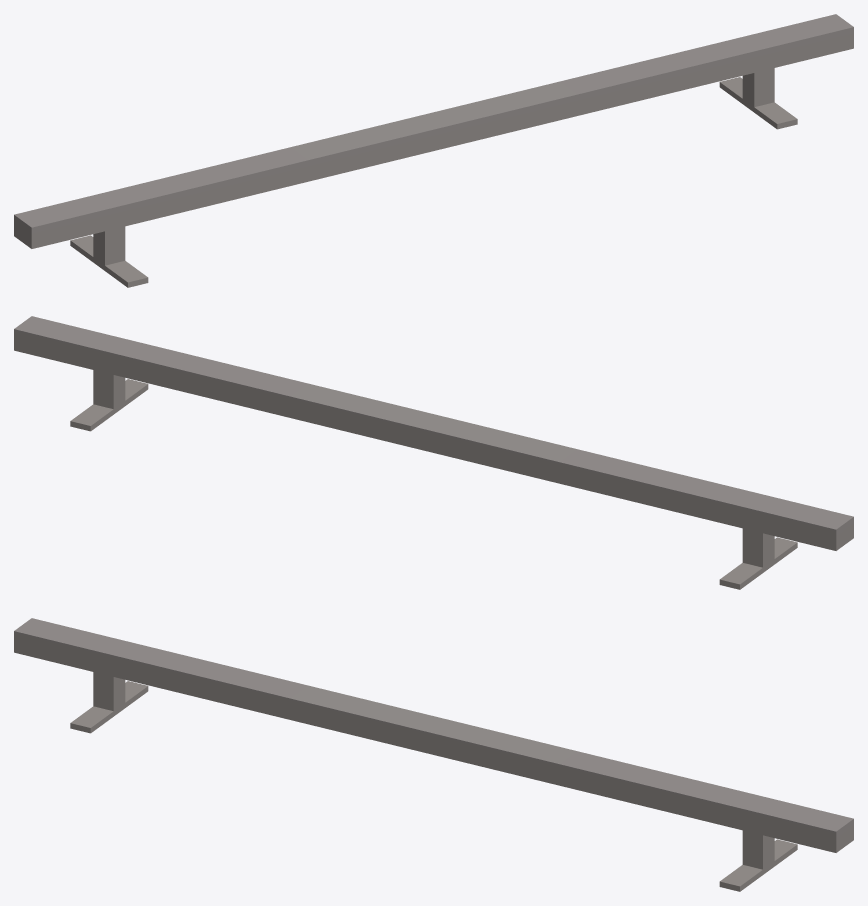
Rendered from SkateboardFlatrail.glb.
3 renders of one model, top to bottom at view 1: azimuth 30°, elevation 25°; view 2: azimuth 150°, elevation 25°; view 3: azimuth 330°, elevation 25°, orthographic.
Parts seen in each view (by area): view 1: SkateboardFlatrail; view 2: SkateboardFlatrail; view 3: SkateboardFlatrail.
Part boxes in pixels (bbox=[...]): SkateboardFlatrail: bbox=[14, 14, 853, 287]; SkateboardFlatrail: bbox=[14, 316, 853, 589]; SkateboardFlatrail: bbox=[14, 618, 853, 891].
Size of the model in its own units: 4 by 0.2988 by 0.4852.
Materials: 1 (1 with a texture image).
